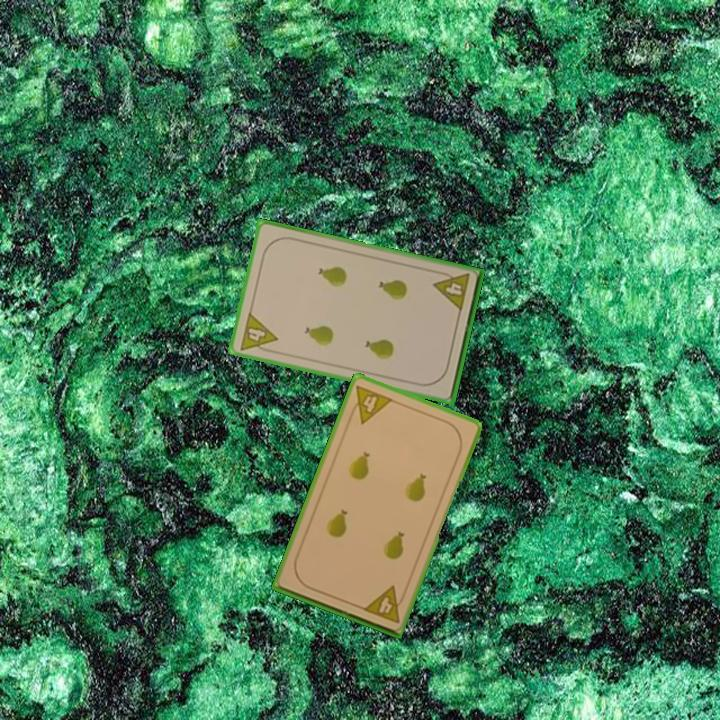4p: (345, 382, 396, 427), (359, 582, 409, 626), (236, 309, 280, 356), (430, 268, 472, 314)
